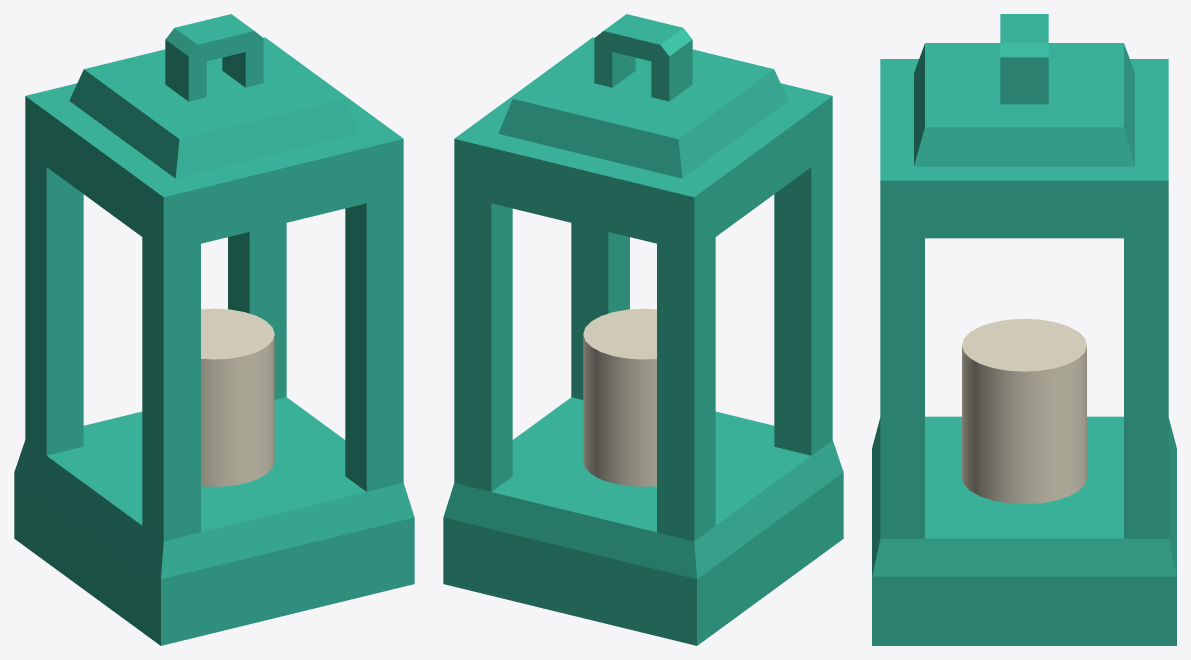
File: d_kenney_lanterne_bougie.glb
The picture shows the model from 3 angles, left to right: view 1: azimuth 30°, elevation 25°; view 2: azimuth 150°, elevation 25°; view 3: azimuth 270°, elevation 25°; orthographic projection. The views are drawn at different scales.
Parts seen in each view (by area): view 1: d_kenney_lanterne_bougie; view 2: d_kenney_lanterne_bougie; view 3: d_kenney_lanterne_bougie.
Part boxes in pixels (left/top/right/bottom): d_kenney_lanterne_bougie: left=14, top=14, right=414, bottom=645; d_kenney_lanterne_bougie: left=443, top=14, right=843, bottom=645; d_kenney_lanterne_bougie: left=872, top=14, right=1176, bottom=645.
Bounding box in the file's own units: 0.1459 × 0.2923 × 0.1459.
1 material, 1 textured.
